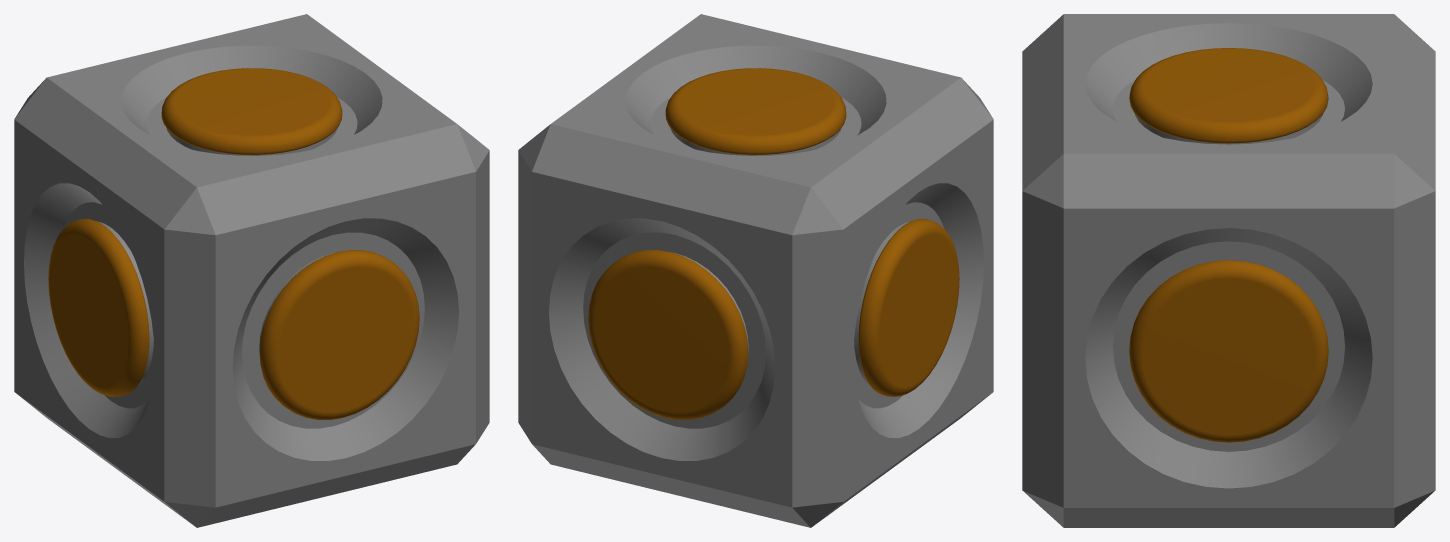
File: Lost_Robot_Crate.fbx
3 renders of one model, left to right at view 1: azimuth 30°, elevation 25°; view 2: azimuth 150°, elevation 25°; view 3: azimuth 270°, elevation 25°, orthographic. The views are drawn at different scales.
Parts seen in each view (by area): view 1: pCube2; view 2: pCube2; view 3: pCube2.
Part boxes in pixels (x1,y1,x2,y2): pCube2: [14, 14, 489, 527]; pCube2: [518, 14, 993, 527]; pCube2: [1022, 14, 1435, 527].
Bounding box in the file's own units: 4.74 × 4.74 × 4.74.
